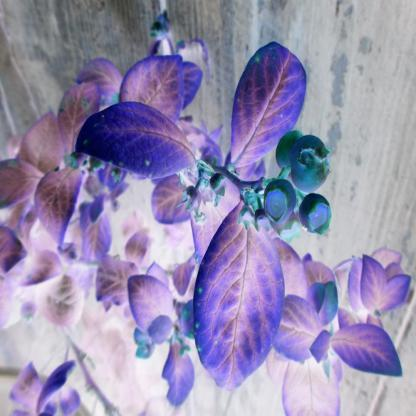Blueberry leaf: (192, 204, 284, 410), (65, 94, 200, 182), (231, 42, 316, 176), (331, 315, 411, 393), (36, 160, 92, 258), (356, 252, 414, 326), (122, 274, 180, 338)
